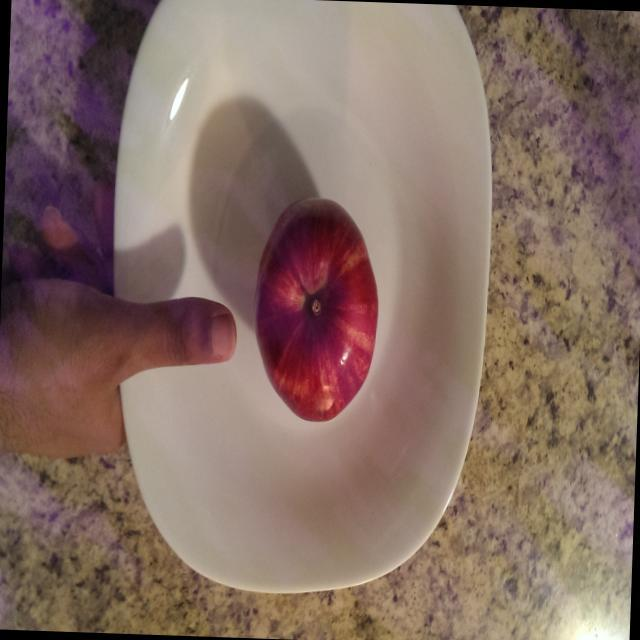Apple: (246, 190, 388, 427)
Finger: (143, 284, 241, 384)
